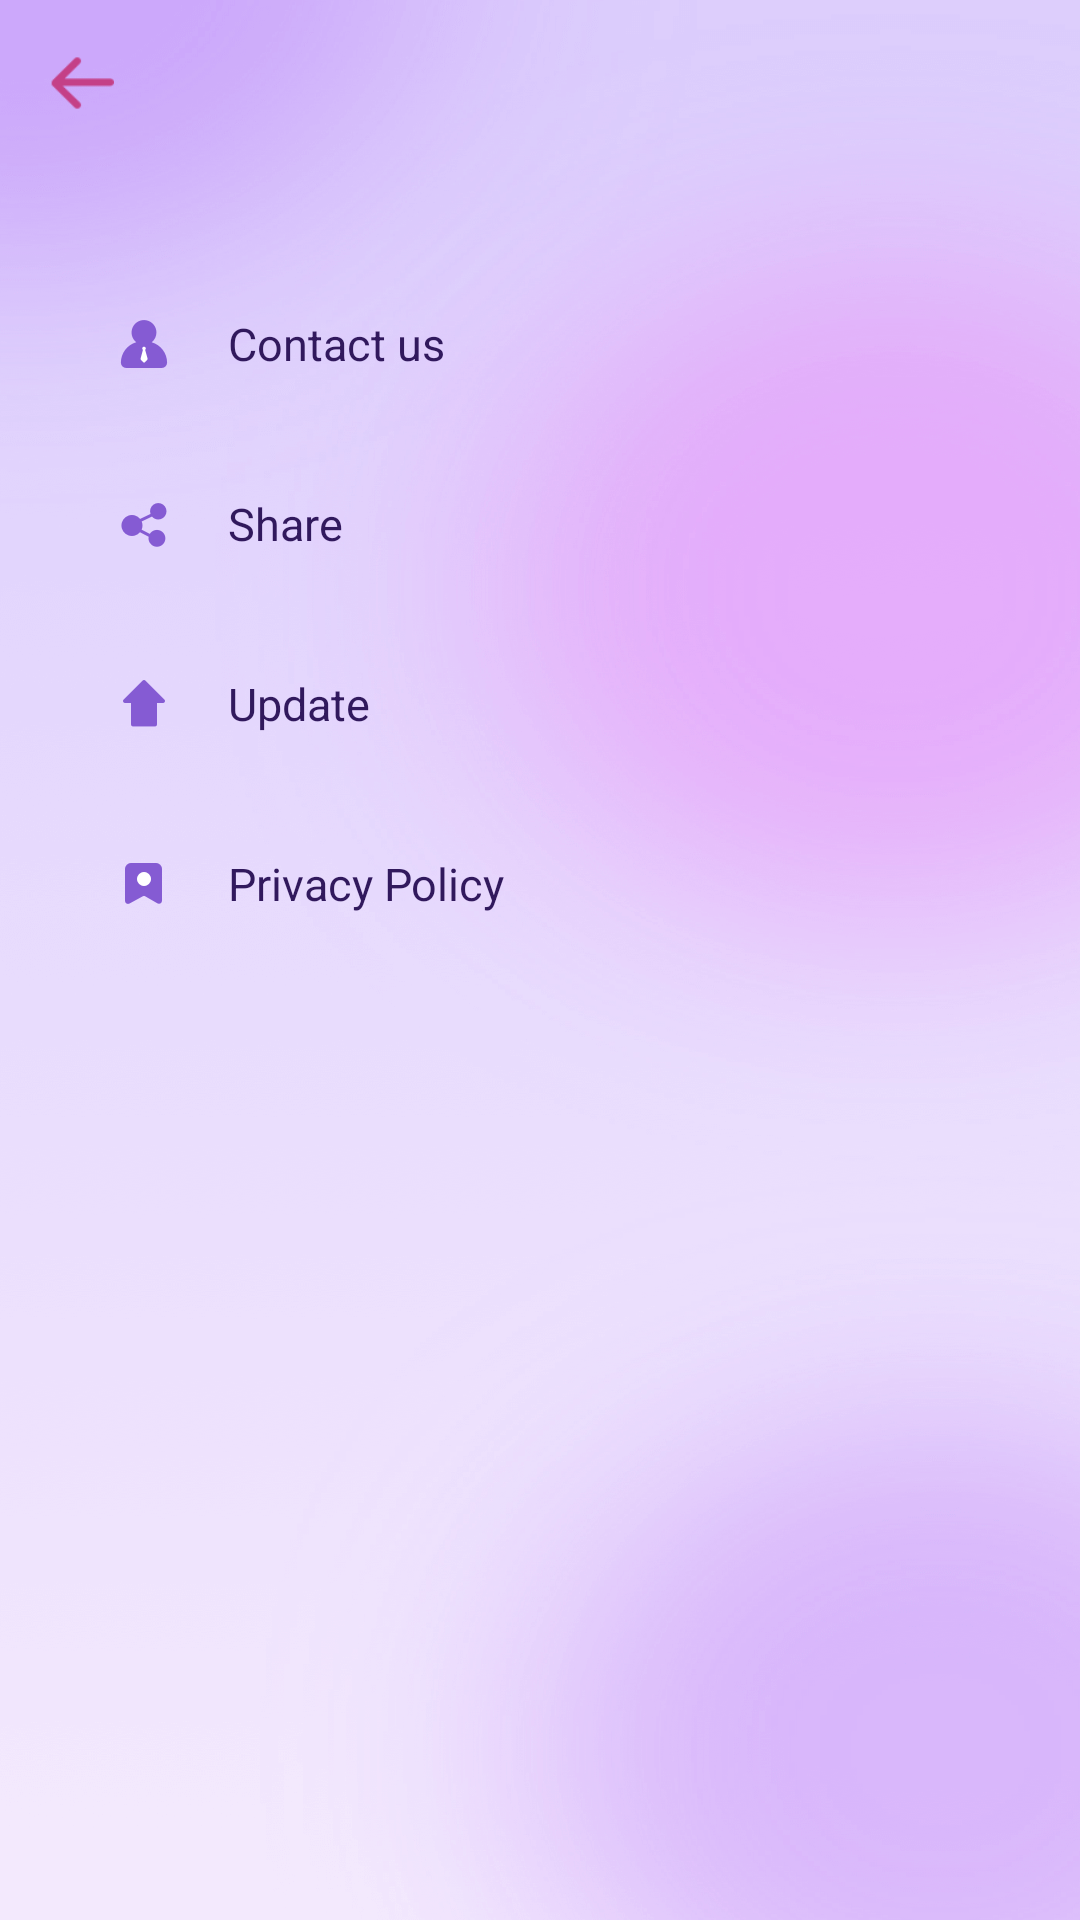

Point at icon controls on the screen. Image size 1080×1920, points as (x,y).
back: (82,83)
